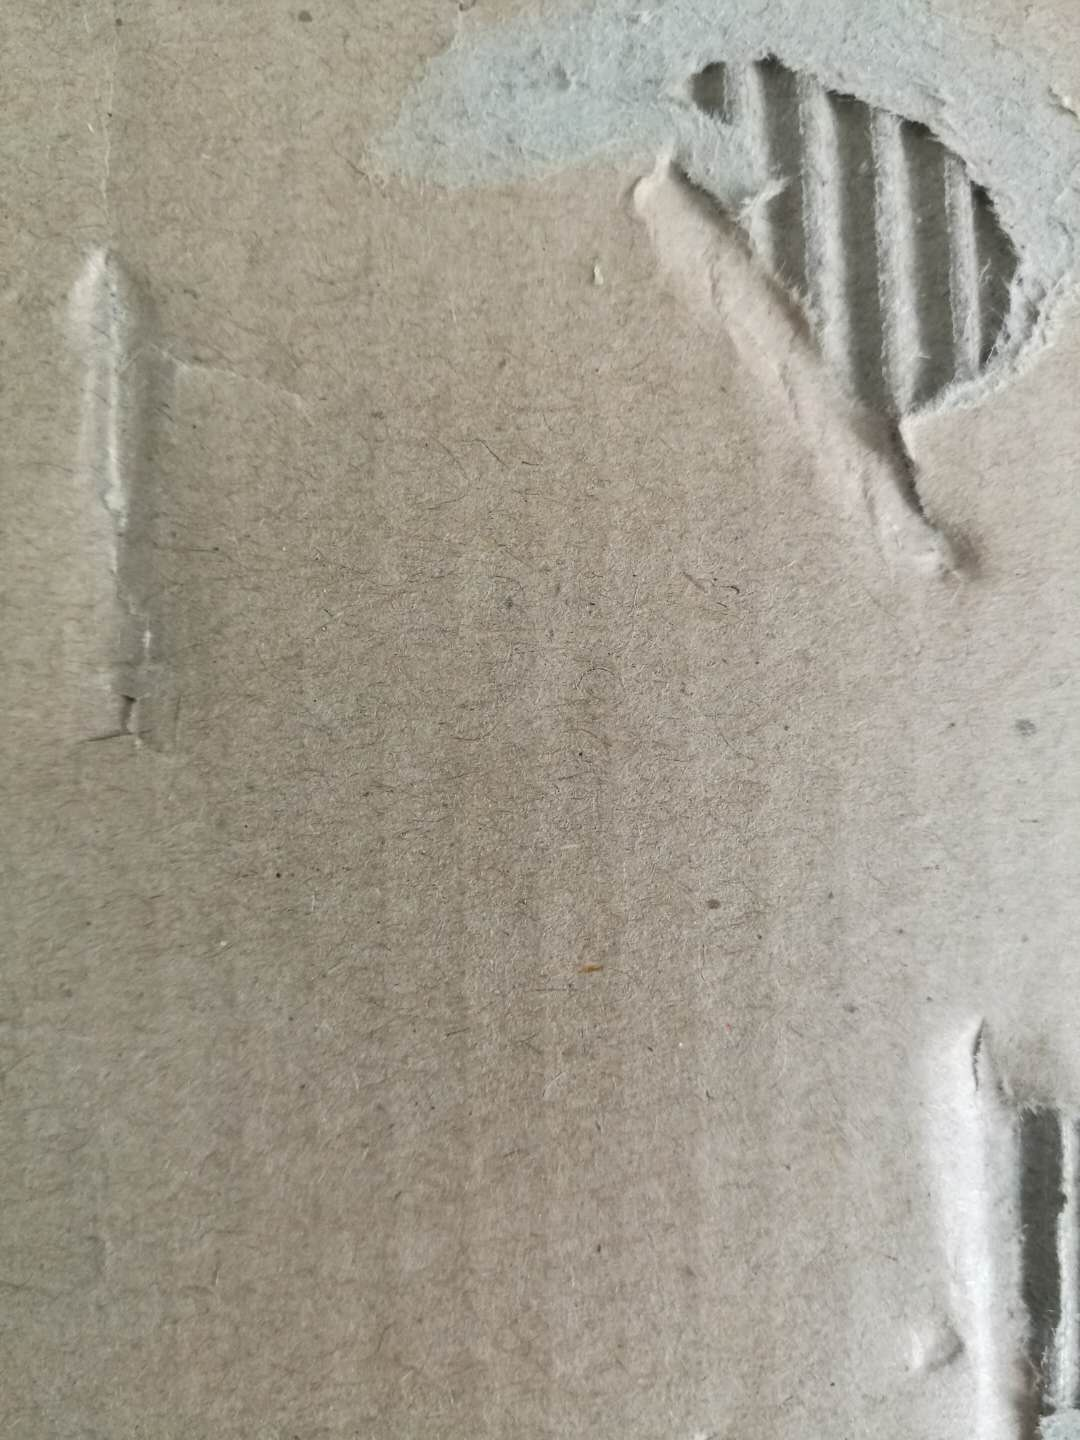defect: (357, 1, 1080, 617), (6, 185, 368, 779), (819, 932, 1080, 1439)
